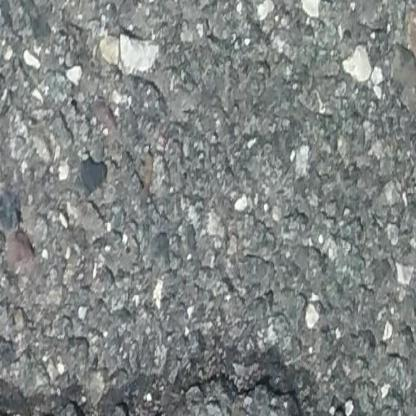Cracks: (0, 343, 402, 416)
